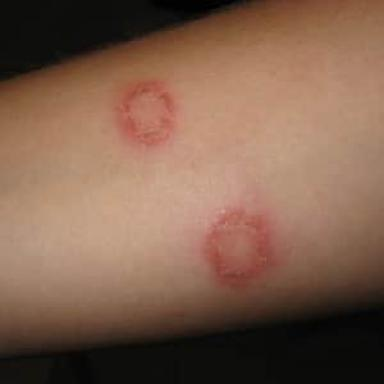Tinea-Corporis: (205, 205, 273, 281), (115, 82, 175, 144)
